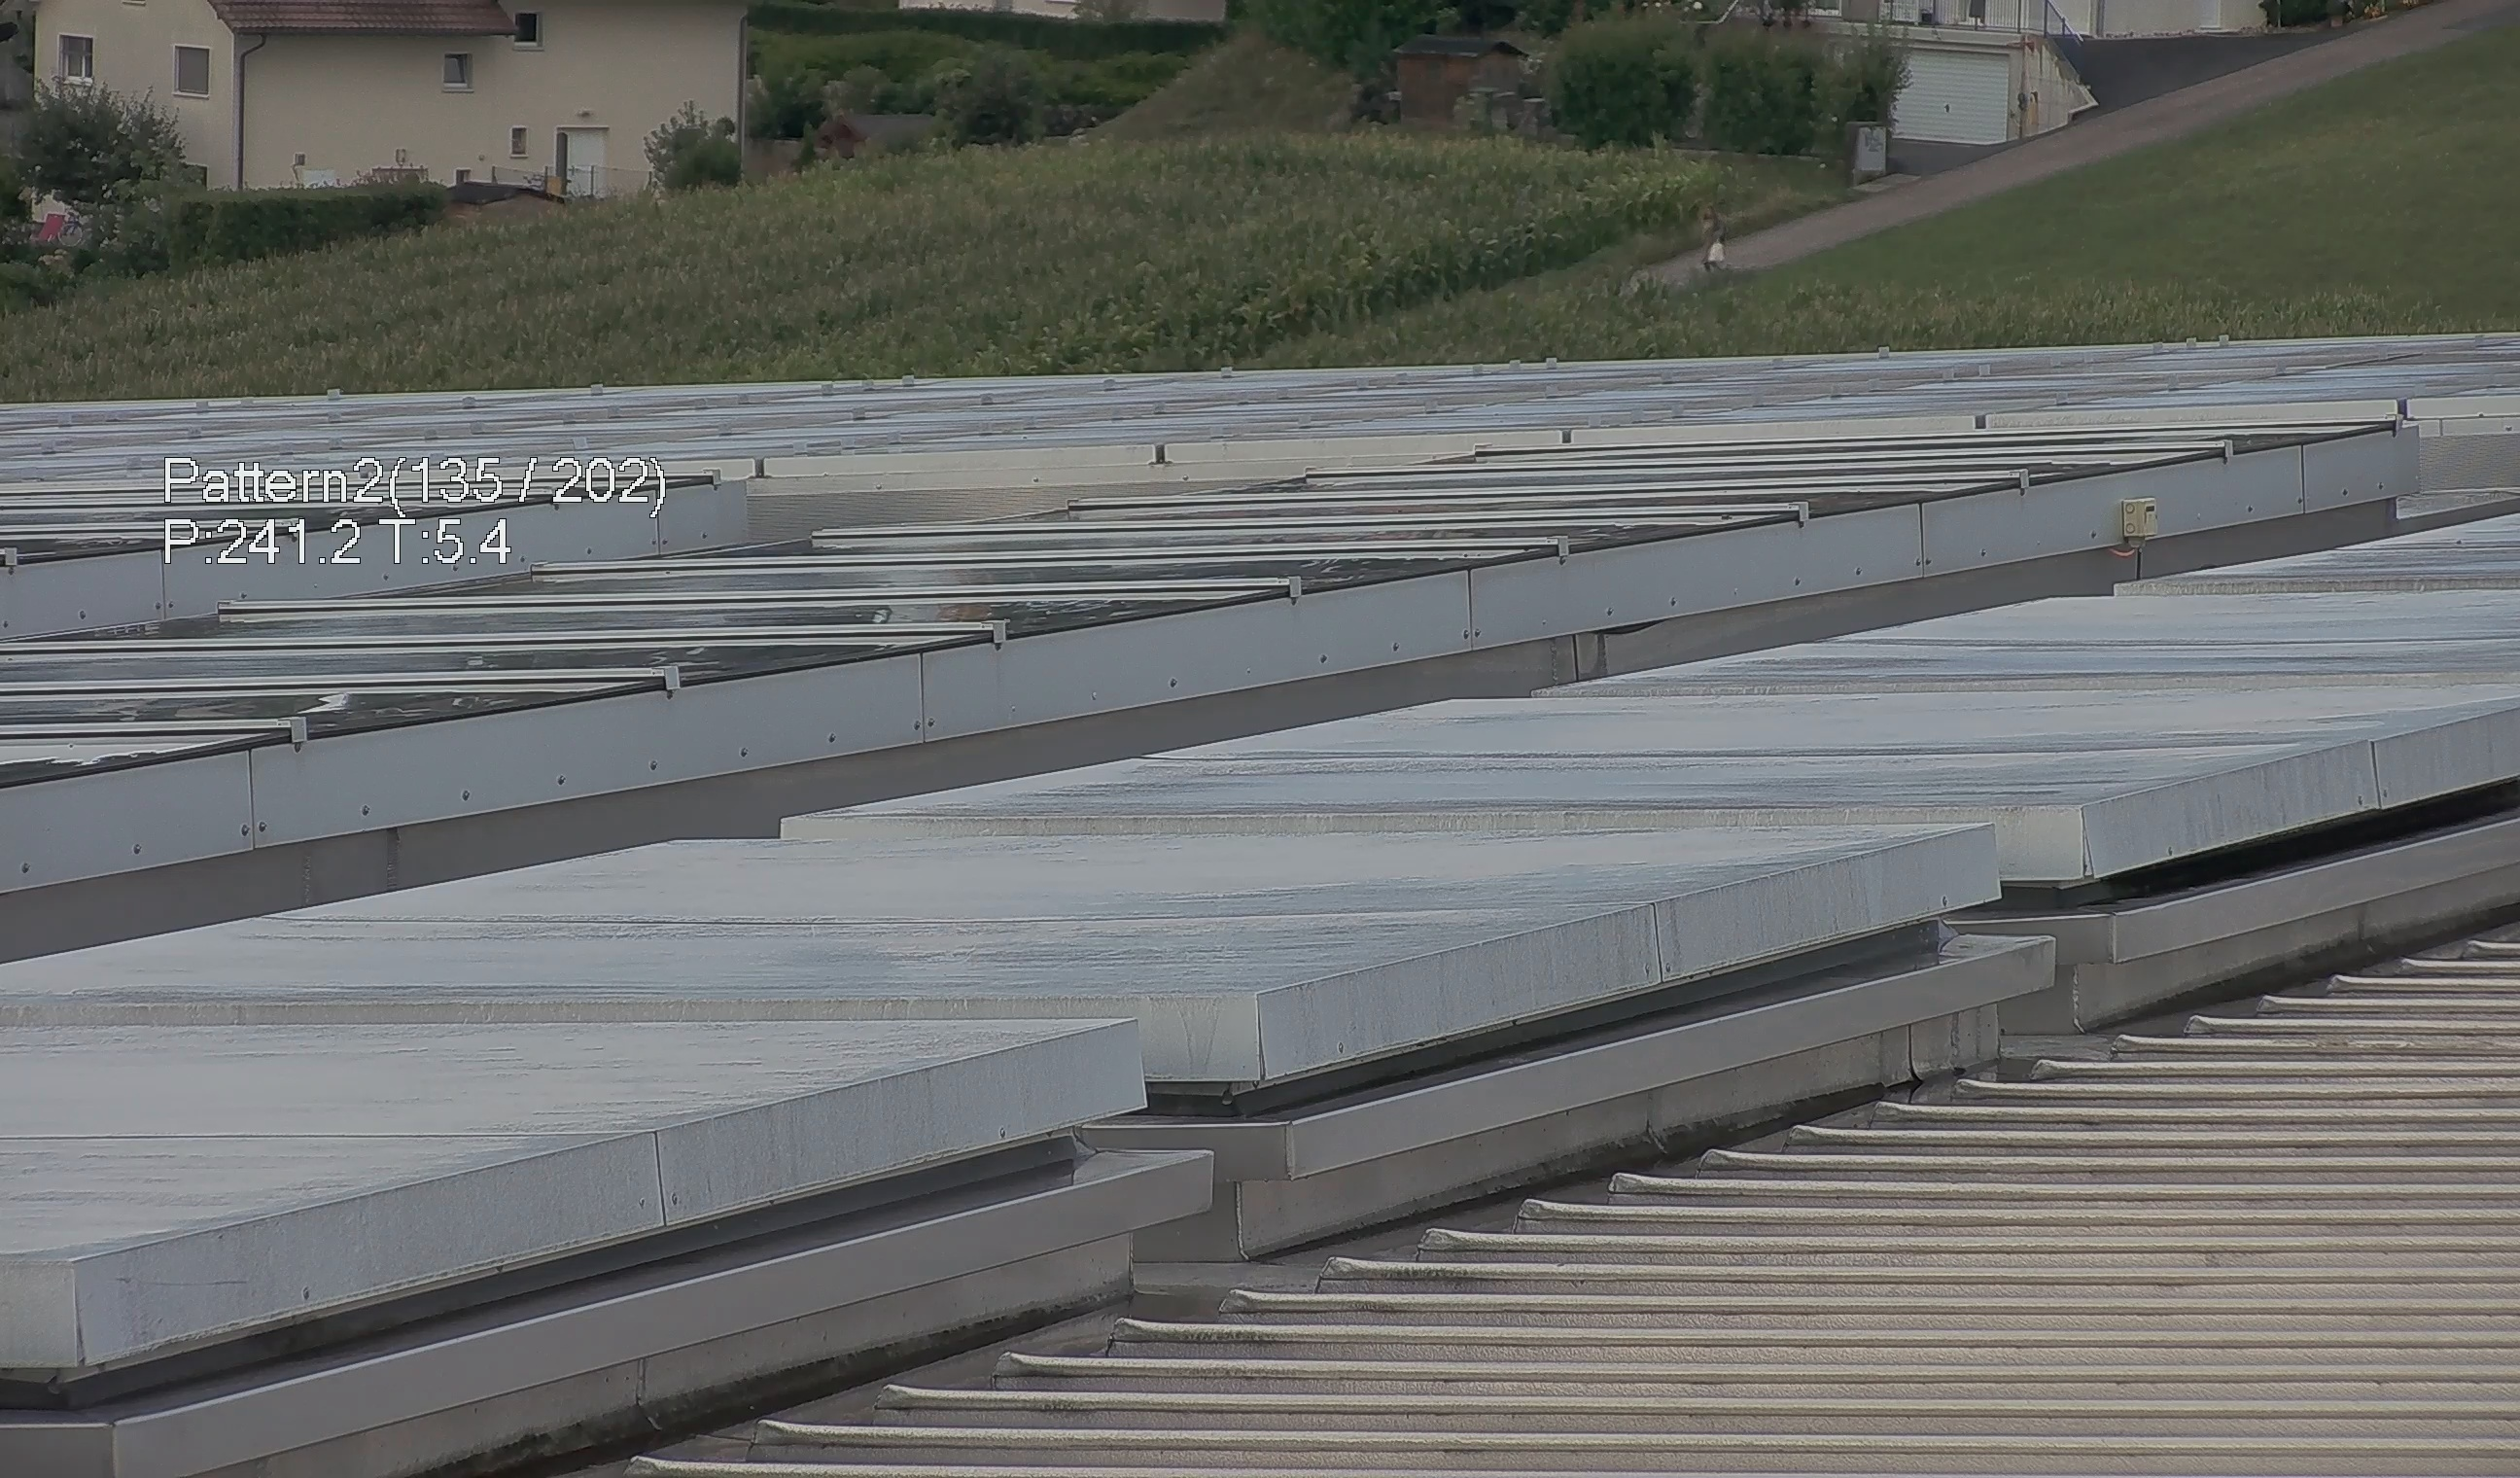Other: (1704, 197, 1748, 273)
